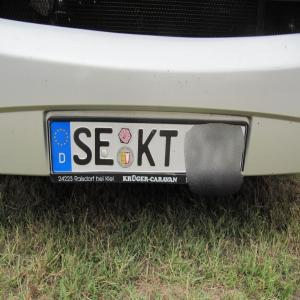Vehicle-registration-plate: (54, 111, 250, 194)
